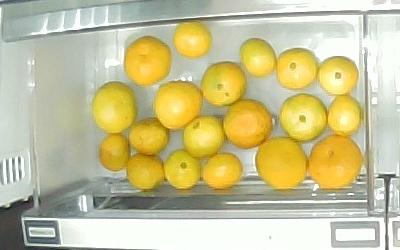tangerine: (306, 136, 362, 190), (255, 137, 308, 189), (222, 99, 273, 149), (154, 81, 204, 130), (91, 81, 136, 134), (279, 94, 328, 142), (124, 36, 171, 86), (201, 61, 246, 106), (275, 47, 319, 91), (183, 116, 225, 160), (318, 55, 359, 95), (201, 153, 242, 191), (129, 118, 170, 156), (239, 37, 276, 79), (164, 149, 202, 189), (126, 154, 166, 191), (327, 94, 361, 136), (173, 21, 211, 58), (98, 134, 132, 172)
